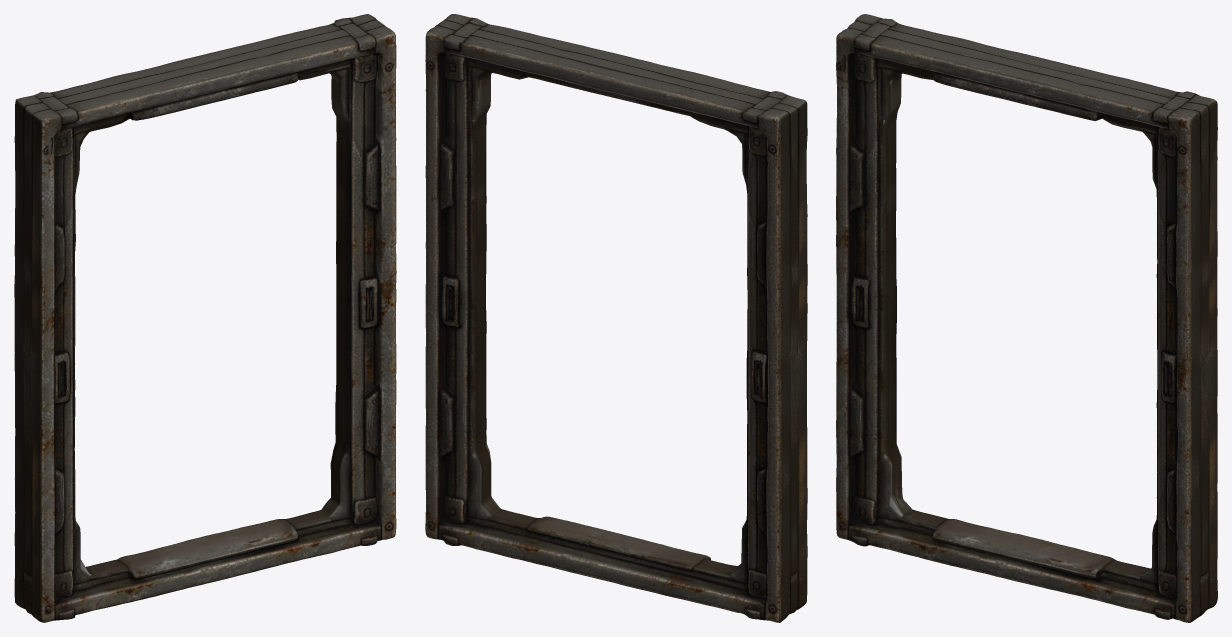
Rendered from rusty+metal+frame+3d+model.glb.
3 views of the same model, side by side, from view 1: azimuth 30°, elevation 25°; view 2: azimuth 150°, elevation 25°; view 3: azimuth 330°, elevation 25° (orthographic).
Parts seen in each view (by area): view 1: tripo_node_32163796-0975-44ab-9607-4a522974de4e; view 2: tripo_node_32163796-0975-44ab-9607-4a522974de4e; view 3: tripo_node_32163796-0975-44ab-9607-4a522974de4e.
Part boxes in pixels (<box>): tripo_node_32163796-0975-44ab-9607-4a522974de4e: <box>14,14,396,622</box>; tripo_node_32163796-0975-44ab-9607-4a522974de4e: <box>425,14,807,622</box>; tripo_node_32163796-0975-44ab-9607-4a522974de4e: <box>836,14,1217,622</box>.
Bounding box in the file's own units: 0.7215 × 0.979 × 0.1112.
1 material, 1 textured.
